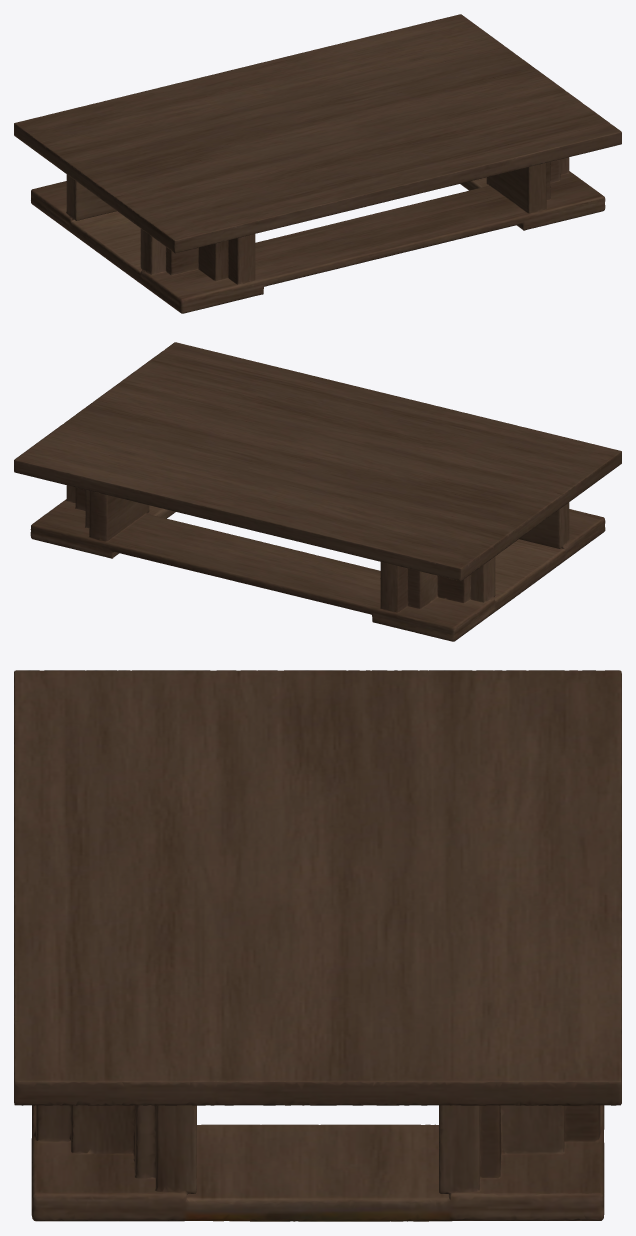
Rendered from modern_rectangular_coffee_table_crafted_ntxdir.glb.
3 renders of one model, top to bottom at view 1: azimuth 30°, elevation 25°; view 2: azimuth 150°, elevation 25°; view 3: azimuth 270°, elevation 25°, orthographic. The views are drawn at different scales.
Visible parts, largest first — view 1: world; view 2: world; view 3: world.
Part boxes in pixels (<box>): world: <box>14,14,621,313</box>; world: <box>14,342,621,641</box>; world: <box>14,670,621,1221</box>.
Size of the model in its own units: 1 by 0.172 by 0.6248.
1 material, 1 textured.
